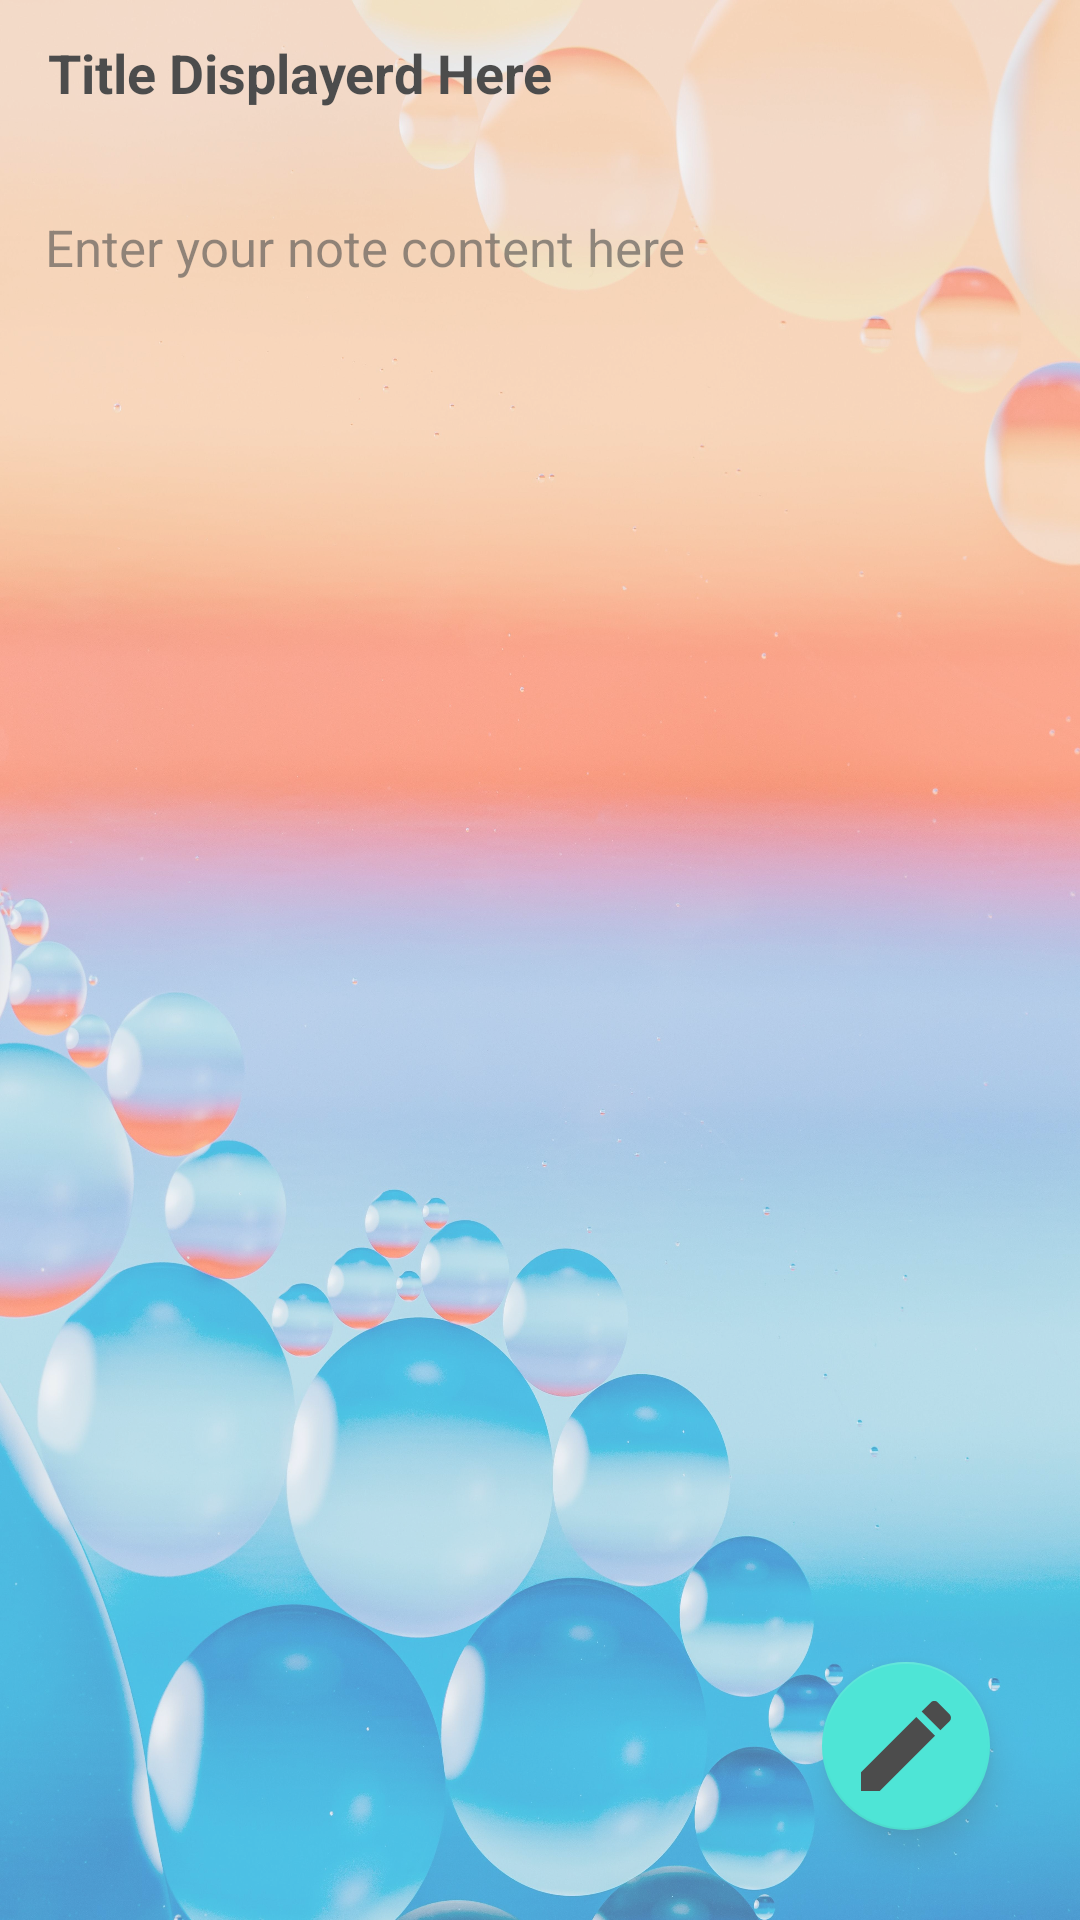

Screen size 1080px×1920px. Icon name, then its center in pixels as (x=x, y=y):
edit: (x=906, y=1746)
